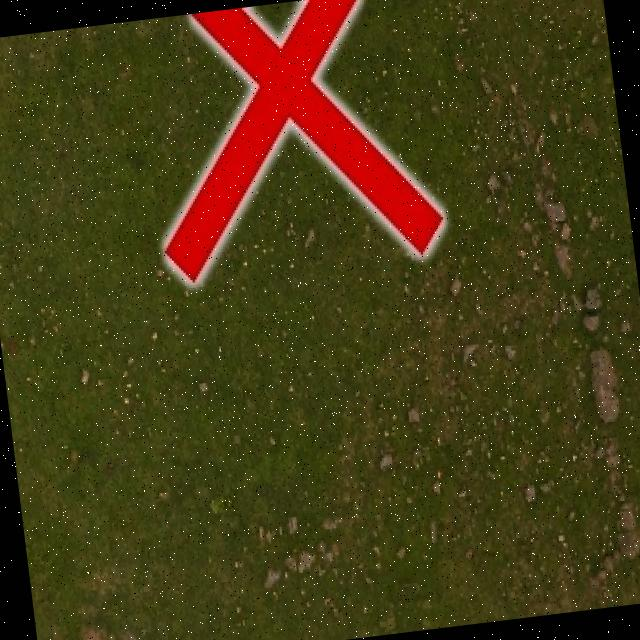x_marker: (137, 0, 445, 284)
